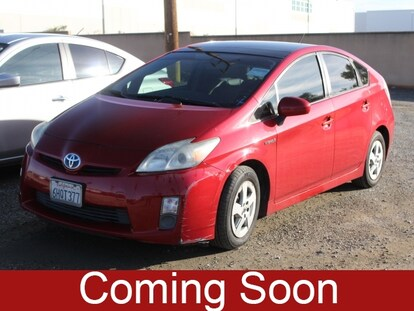Toyota Prius: (15, 39, 398, 251)
